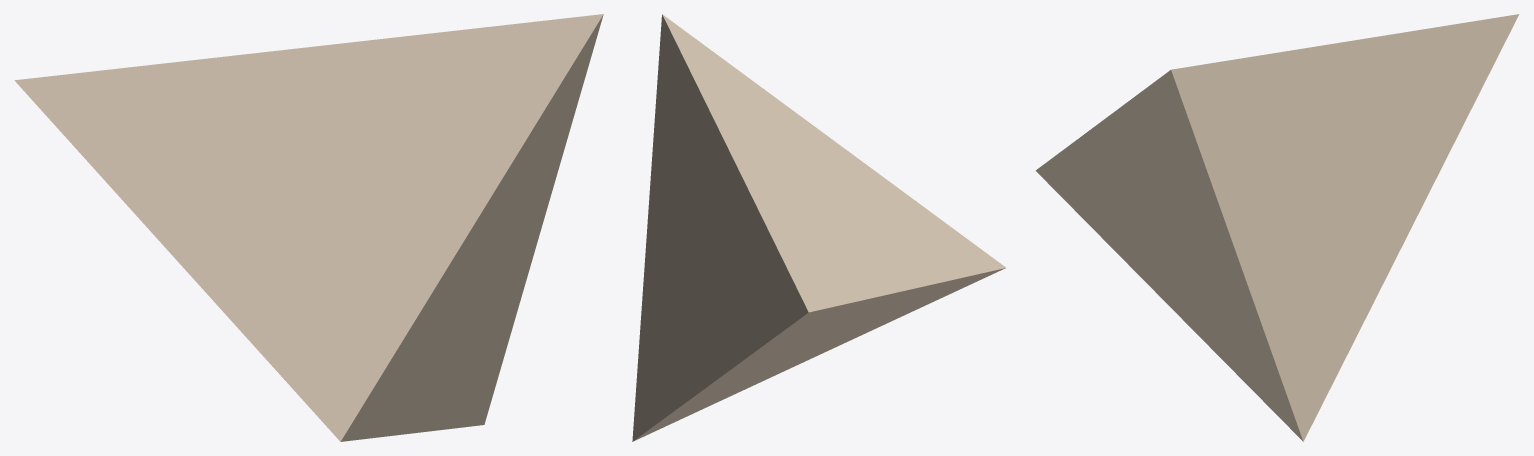
File: Wall_Crumbel_001.fbx
3 views of the same model, side by side, from view 1: azimuth 30°, elevation 25°; view 2: azimuth 150°, elevation 25°; view 3: azimuth 270°, elevation 25° (orthographic). The views are drawn at different scales.
Parts seen in each view (by area): view 1: polySurface241; view 2: polySurface241; view 3: polySurface241.
Boxes of the visible parts, <box> form: polySurface241: <box>14,14,603,441</box>; polySurface241: <box>632,14,1006,441</box>; polySurface241: <box>1035,14,1519,441</box>.
Bounding box in the file's own units: 0.0826 × 0.0939 × 0.1058.
